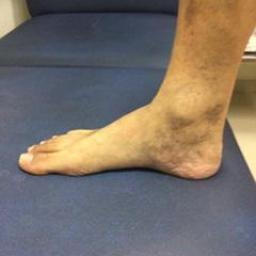Medial View -Right Foot-: (12, 60, 241, 188)
